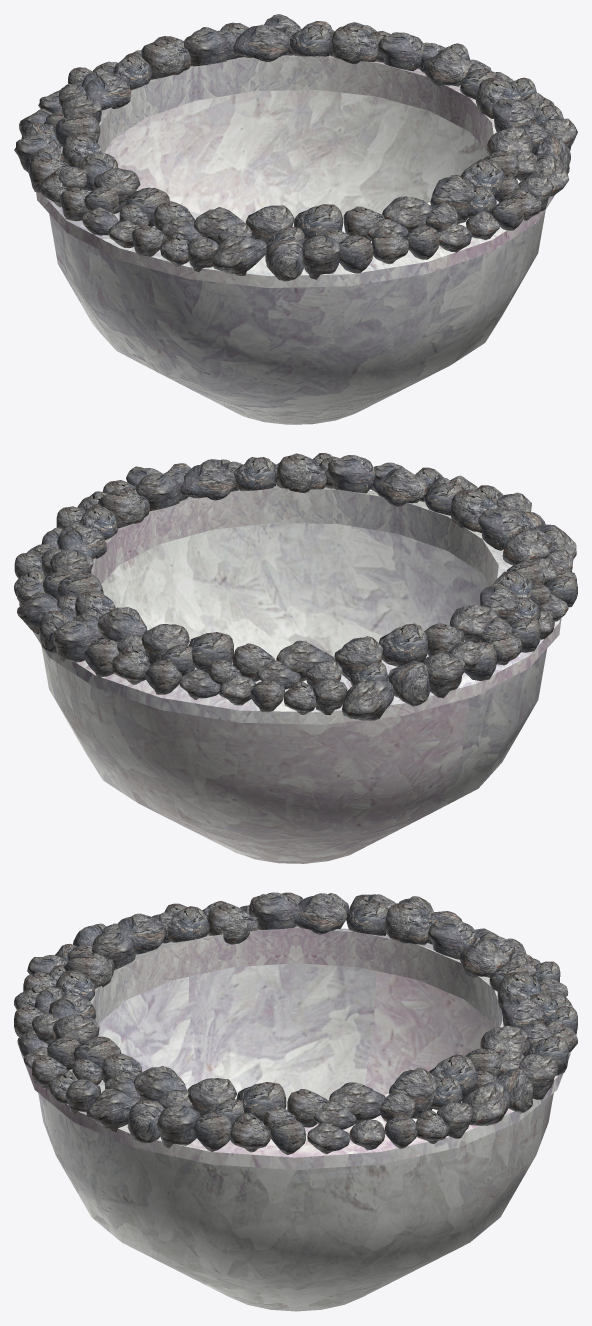
The model's file is WordPool_02.fbx.
3 views of the same model, one above another, from view 1: azimuth 30°, elevation 25°; view 2: azimuth 150°, elevation 25°; view 3: azimuth 270°, elevation 25° (orthographic). The views are drawn at different scales.
Parts seen in each view (by area): view 1: WordPool_01; view 2: WordPool_01; view 3: WordPool_01.
Part boxes in pixels (x1,y1,x2,y2): WordPool_01: (14, 14, 577, 424); WordPool_01: (14, 453, 577, 863); WordPool_01: (14, 892, 577, 1311).
Bounding box in the file's own units: 18.22 × 10.72 × 18.18.
